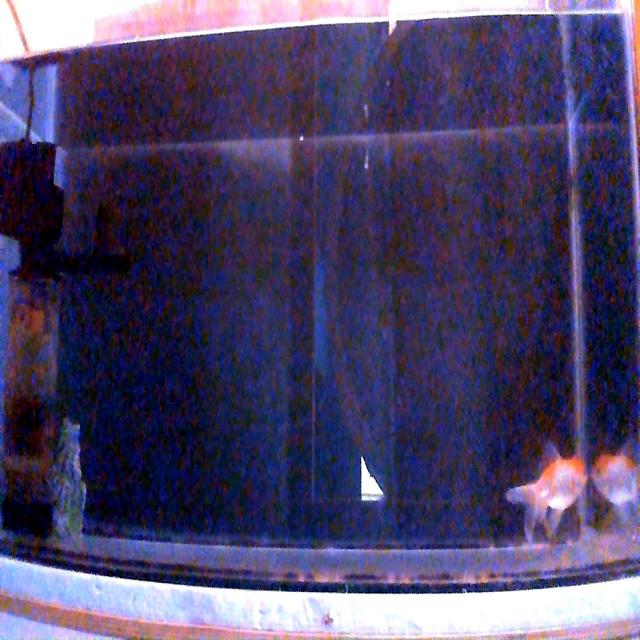fish: (506, 447, 588, 545), (590, 448, 638, 506)
